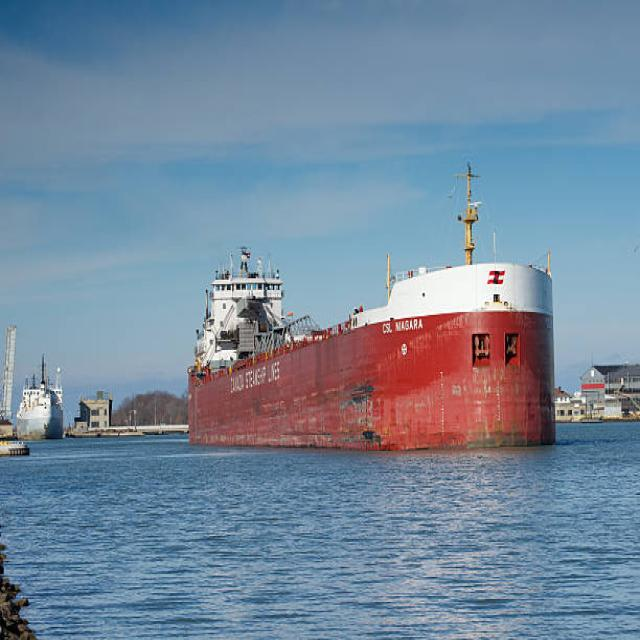PassengerShip: (113, 218, 573, 485)
